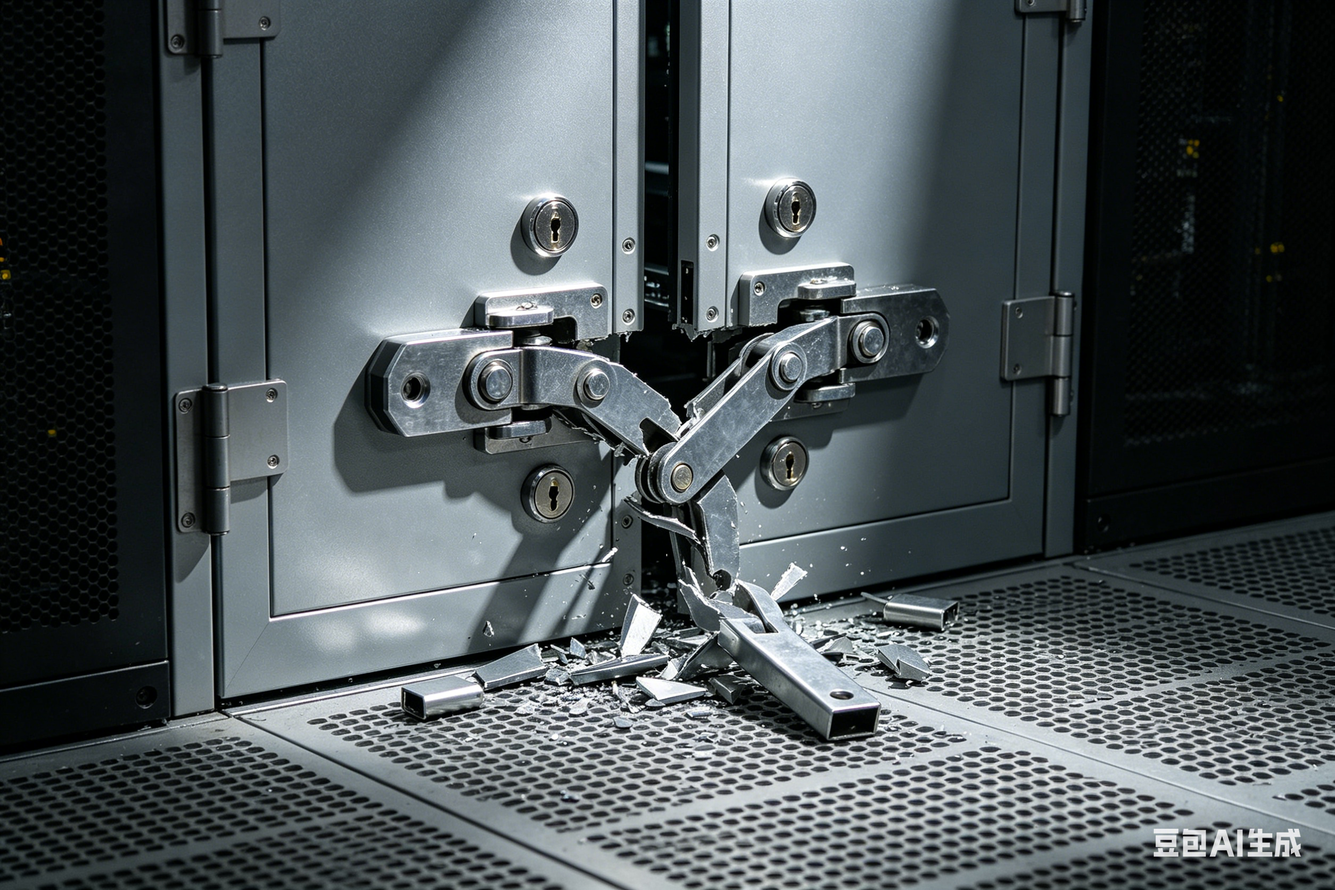BadLock: (547, 319, 843, 475)
